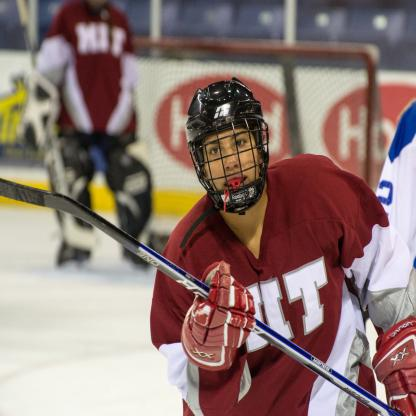Helmet: (185, 82, 272, 223)
